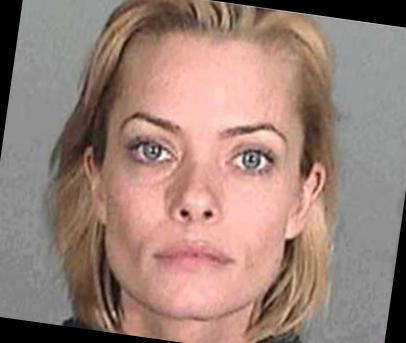Drunk: (121, 32, 288, 316)
